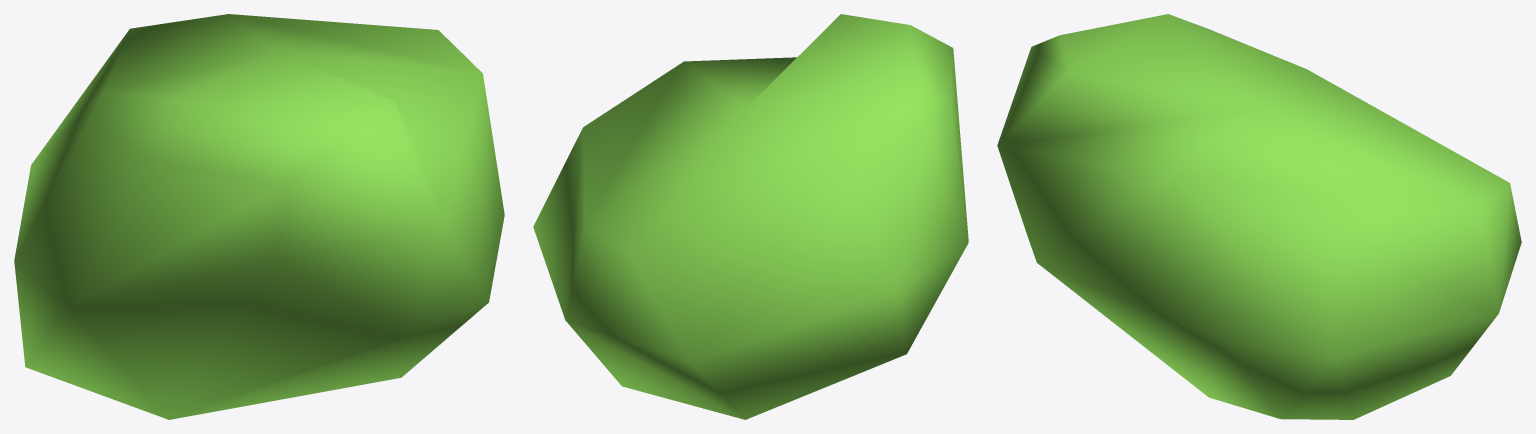
File: rock_07.FBX
The picture shows the model from 3 angles, left to right: view 1: azimuth 30°, elevation 25°; view 2: azimuth 150°, elevation 25°; view 3: azimuth 270°, elevation 25°; orthographic projection. The views are drawn at different scales.
Visible parts, largest first — view 1: rock_07; view 2: rock_07; view 3: rock_07.
Boxes of the visible parts, left/top/right/bottom form: rock_07: left=14, top=14, right=504, bottom=419; rock_07: left=533, top=14, right=968, bottom=419; rock_07: left=997, top=14, right=1521, bottom=419.
Size of the model in its own units: 51.4 by 36.87 by 57.92.
